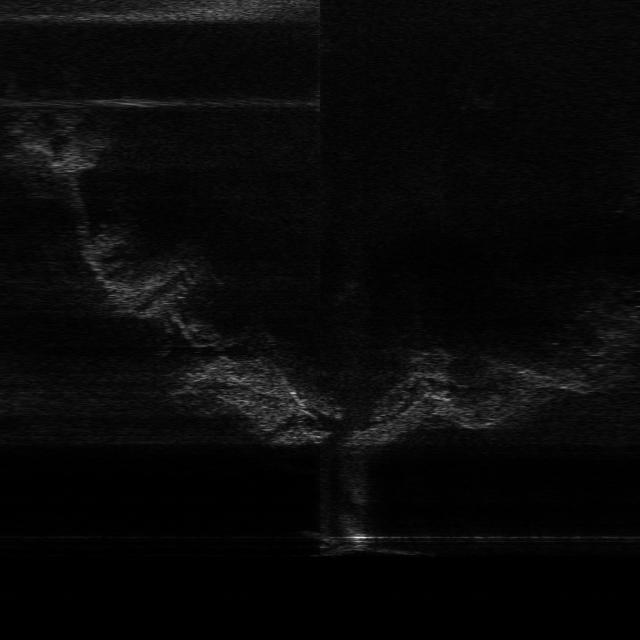plane: (303, 527, 432, 557)
